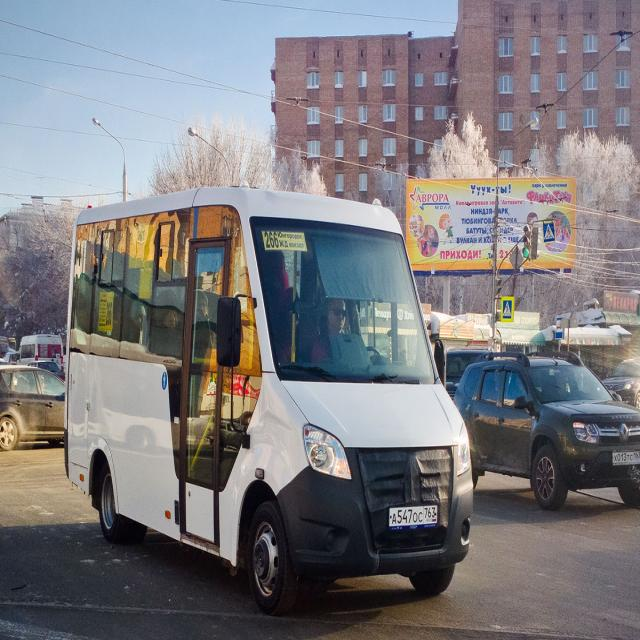number-of-bus: (264, 231, 280, 251)
